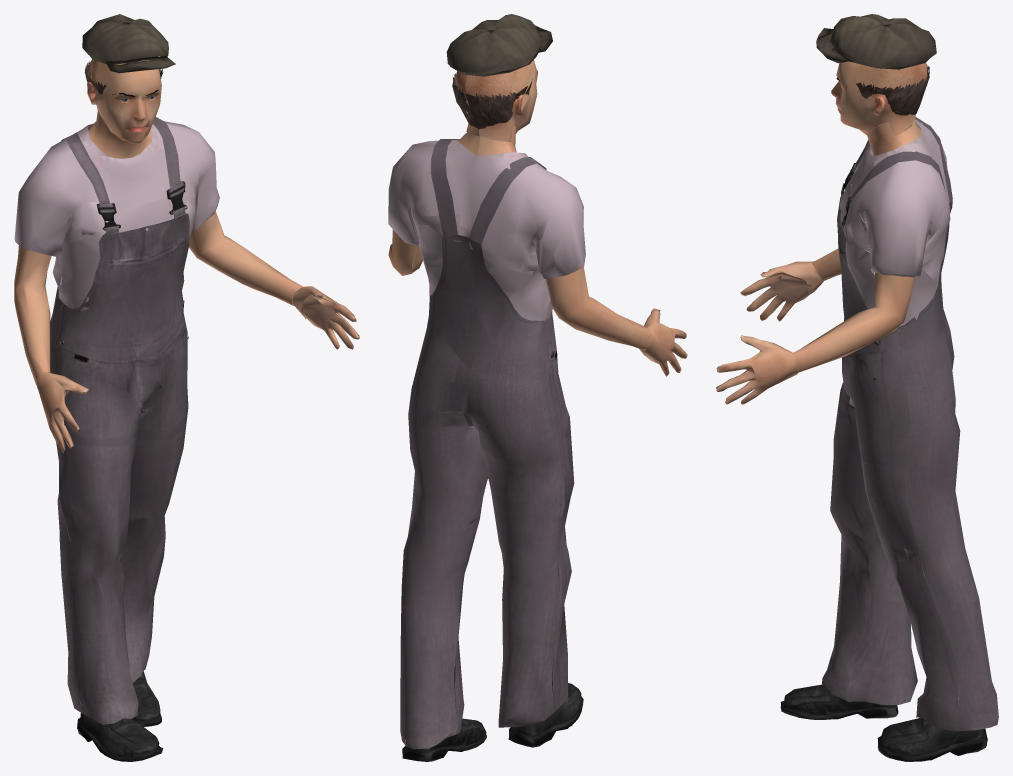
3 renders of one model, left to right at view 1: azimuth 30°, elevation 25°; view 2: azimuth 150°, elevation 25°; view 3: azimuth 270°, elevation 25°, orthographic.
Parts seen in each view (by area): view 1: Modell; view 2: Modell; view 3: Modell.
Boxes of the visible parts, bbox=[...] form: Modell: bbox=[14, 14, 359, 761]; Modell: bbox=[388, 14, 687, 761]; Modell: bbox=[716, 14, 998, 761].
Size of the model in its own units: 0.6998 by 1.72 by 0.611.
7 materials, 7 textured.
